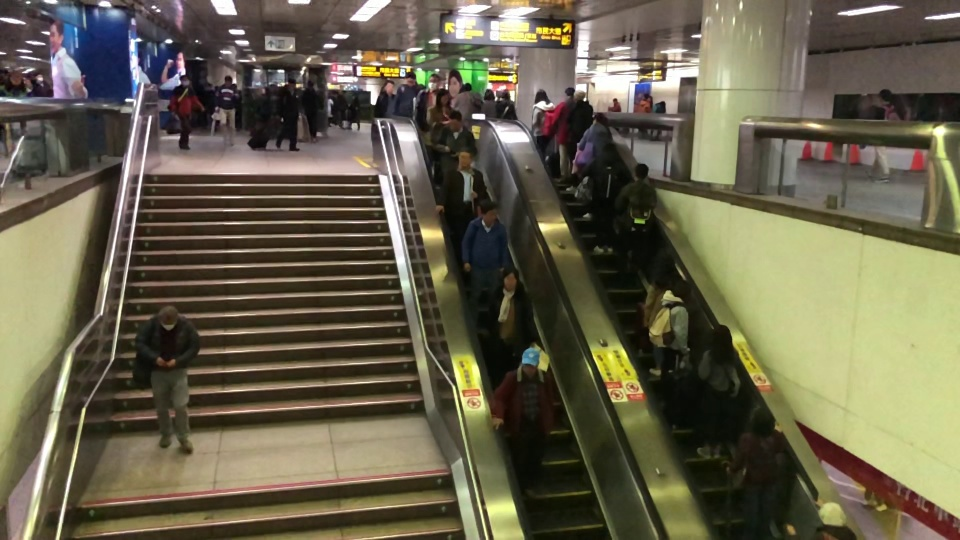person_head: (816, 501, 847, 526), (749, 406, 774, 434), (478, 198, 499, 223), (158, 304, 178, 330), (521, 348, 540, 373), (709, 324, 731, 344), (501, 266, 519, 289), (655, 253, 675, 272), (672, 279, 691, 297), (449, 109, 462, 132), (458, 146, 472, 167), (427, 72, 441, 89), (635, 163, 649, 180), (878, 88, 892, 103), (534, 89, 548, 102), (601, 140, 615, 153), (437, 88, 449, 103), (404, 70, 416, 84), (591, 112, 605, 124), (179, 74, 191, 86), (483, 88, 495, 100), (573, 89, 586, 100), (384, 80, 394, 94), (10, 71, 20, 84), (564, 86, 574, 98), (287, 78, 296, 89), (224, 75, 233, 85), (461, 82, 471, 91), (35, 73, 43, 82), (306, 80, 314, 89), (502, 90, 508, 98), (660, 100, 665, 107), (612, 96, 617, 102), (643, 92, 647, 98)
person_vbox: (134, 304, 203, 456), (489, 348, 555, 499), (722, 406, 785, 540), (460, 198, 508, 326), (696, 324, 739, 461), (613, 162, 658, 286), (582, 139, 624, 256), (649, 280, 692, 389), (488, 266, 534, 363), (860, 88, 905, 185), (434, 146, 486, 225), (643, 252, 675, 377), (574, 112, 607, 217), (432, 110, 477, 178), (565, 89, 593, 193), (786, 500, 858, 540), (168, 73, 204, 151), (424, 88, 451, 186), (551, 86, 575, 183), (274, 77, 304, 153), (214, 75, 242, 148), (532, 88, 555, 149), (415, 72, 441, 125), (302, 79, 321, 143), (394, 70, 418, 118), (454, 81, 477, 117), (373, 79, 394, 116), (635, 91, 651, 139), (1, 71, 28, 97), (495, 89, 516, 119), (651, 99, 665, 141), (607, 96, 622, 131), (480, 88, 495, 116), (33, 73, 49, 96)
